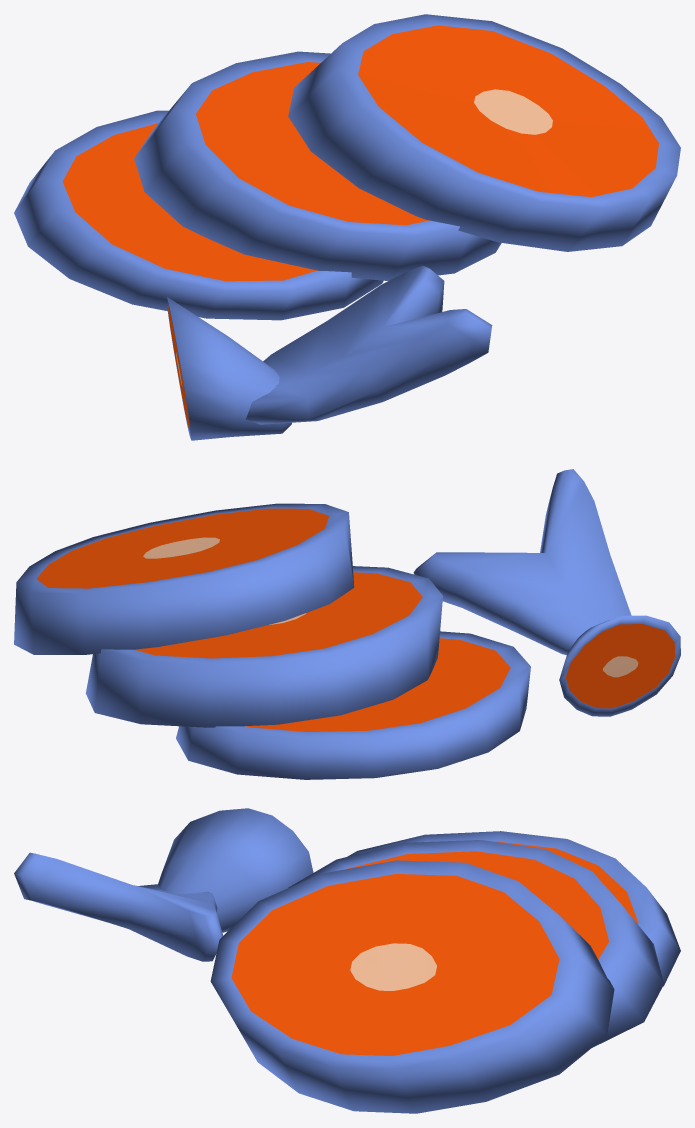
Rendered from SM_Fish_CB.fbx.
3 views of the same model, one above another, from view 1: azimuth 30°, elevation 25°; view 2: azimuth 150°, elevation 25°; view 3: azimuth 270°, elevation 25° (orthographic). The views are drawn at different scales.
Parts seen in each view (by area): view 1: Fish_Plate; view 2: Fish_Plate; view 3: Fish_Plate.
Boxes of the visible parts, bbox=[...] form: Fish_Plate: bbox=[14, 14, 680, 440]; Fish_Plate: bbox=[14, 469, 680, 779]; Fish_Plate: bbox=[14, 808, 680, 1113].
Size of the model in its own units: 102 by 32.78 by 109.
